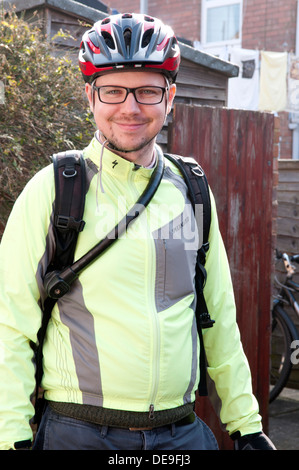helmet: (78, 13, 181, 151)
